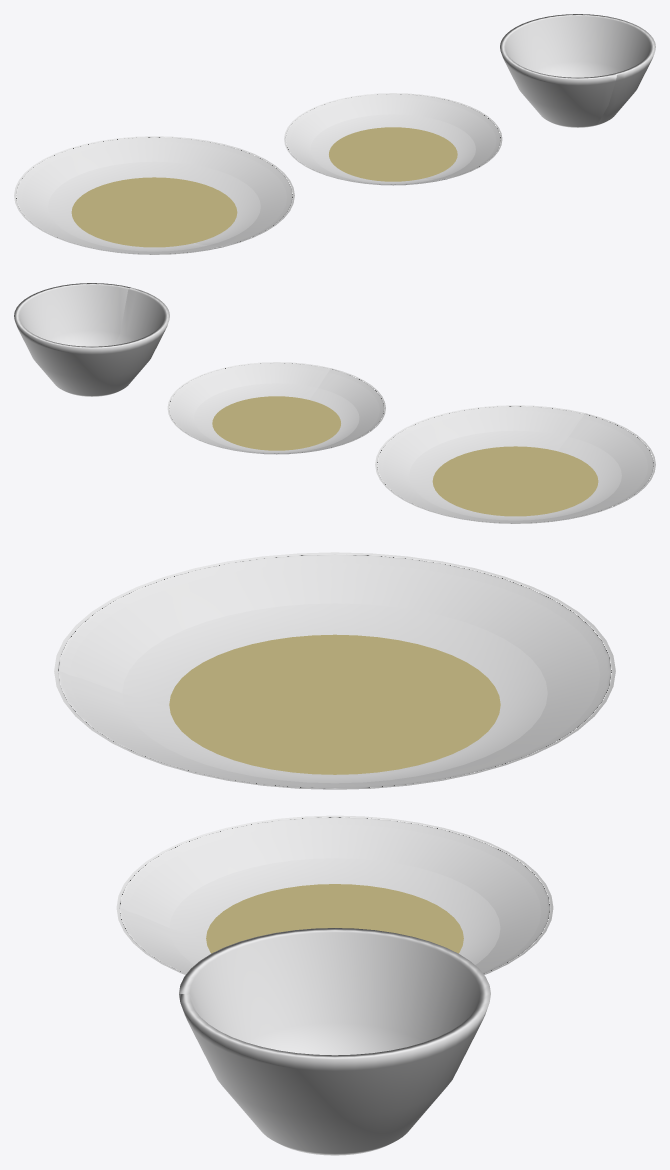
The picture shows the model from 3 angles, top to bottom: view 1: azimuth 30°, elevation 25°; view 2: azimuth 150°, elevation 25°; view 3: azimuth 270°, elevation 25°; orthographic projection. The views are drawn at different scales.
Size of the model in its own units: 0.68 by 0.07 by 0.27.
